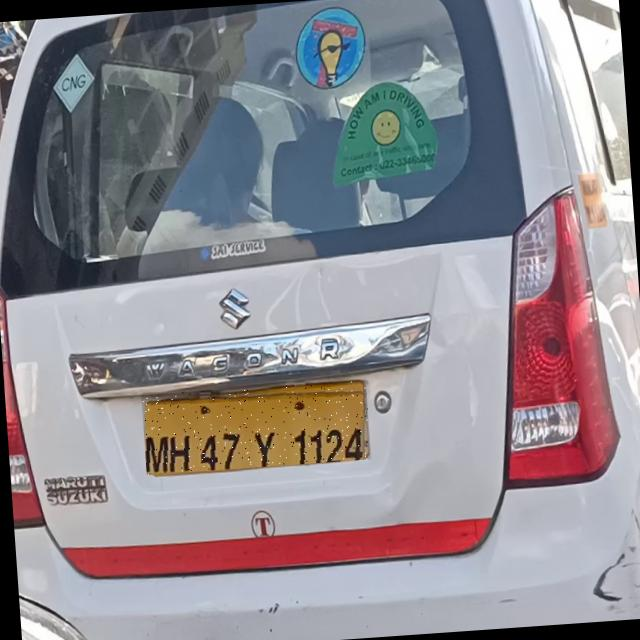Plate: (142, 381, 372, 476)
